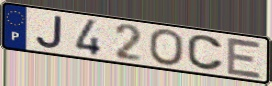2: (112, 23, 144, 64)
4: (73, 18, 103, 58)
C: (186, 34, 226, 73)
E: (225, 35, 264, 81)
J: (35, 15, 65, 50)
O: (148, 28, 186, 68)
